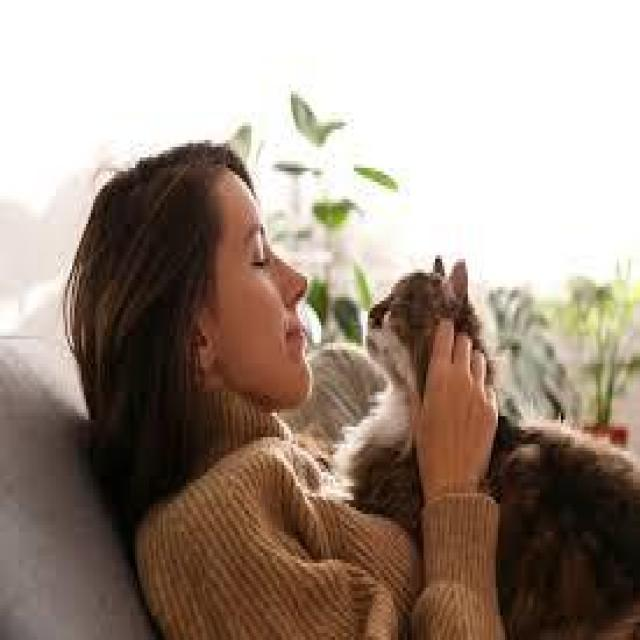Cat: (361, 251, 497, 412)
